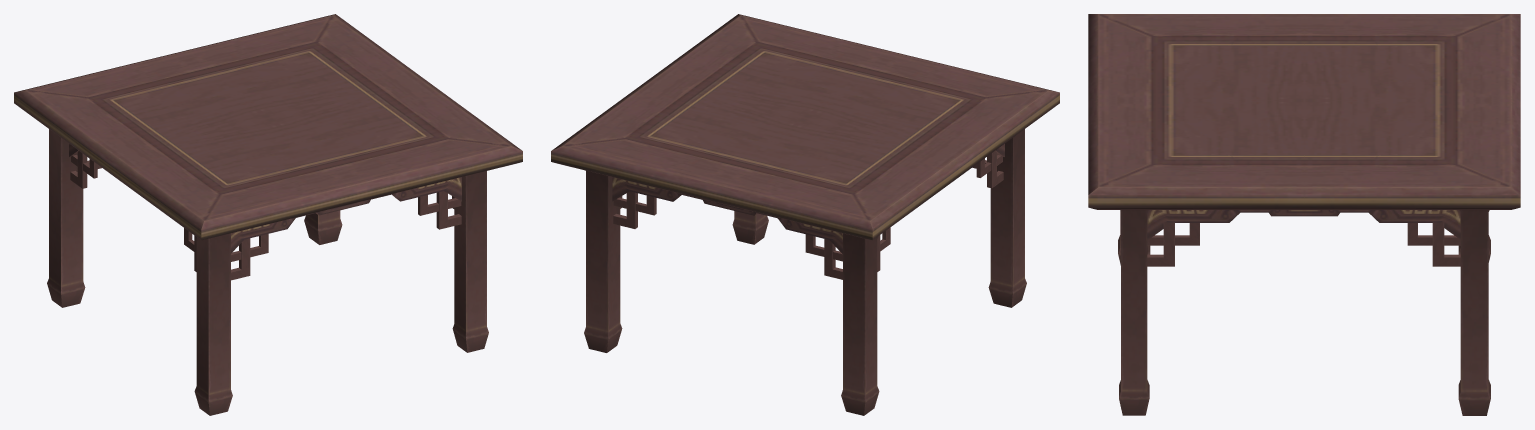
The model's file is Homeworld_Exterior_Cyg_Table_Prop_Fangzhuo_01_Vo.fbx.
3 views of the same model, side by side, from view 1: azimuth 30°, elevation 25°; view 2: azimuth 150°, elevation 25°; view 3: azimuth 270°, elevation 25° (orthographic). The views are drawn at different scales.
Visible parts, largest first — view 1: Area_Ly_Prop_Common_Table_B_04_Vo; view 2: Area_Ly_Prop_Common_Table_B_04_Vo; view 3: Area_Ly_Prop_Common_Table_B_04_Vo.
Part boxes in pixels (box(x1,y1,x2,y2)): Area_Ly_Prop_Common_Table_B_04_Vo: box(14, 14, 522, 415); Area_Ly_Prop_Common_Table_B_04_Vo: box(551, 14, 1059, 415); Area_Ly_Prop_Common_Table_B_04_Vo: box(1088, 14, 1520, 415).
Bounding box in the file's own units: 1.25 × 0.7691 × 1.27.
